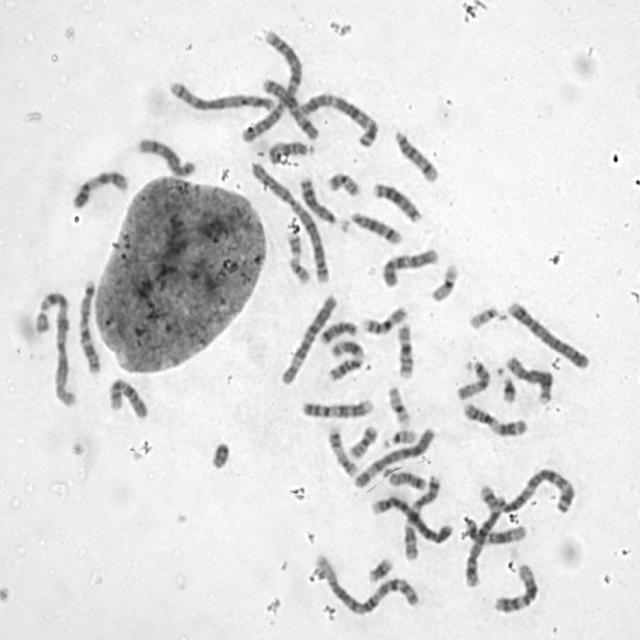A1: (314, 551, 422, 615), (33, 289, 78, 408)
A2: (250, 161, 332, 285), (239, 28, 304, 146)
A3: (297, 92, 379, 146), (496, 470, 578, 514)
B4: (506, 300, 591, 371), (372, 496, 455, 546)
B5: (462, 483, 501, 588), (169, 78, 275, 115)
C10: (380, 249, 440, 289), (109, 375, 150, 421)
C11: (461, 401, 528, 439), (326, 340, 367, 383)
C12: (493, 562, 540, 616), (464, 516, 527, 544)
C6: (350, 426, 436, 489), (280, 294, 337, 385)
C7: (402, 474, 442, 560), (77, 279, 103, 373)
C8: (504, 354, 556, 405), (136, 137, 197, 179)
C9: (72, 170, 130, 212), (301, 398, 376, 420)
D13: (373, 182, 423, 224), (299, 177, 338, 226)
D14: (394, 126, 440, 183), (342, 211, 403, 245)
D15: (454, 359, 491, 401), (269, 141, 314, 165)
E16: (360, 304, 408, 336), (397, 324, 415, 381)
E17: (327, 429, 358, 479), (286, 232, 312, 284)
E18: (383, 466, 429, 492), (317, 321, 359, 345)
F19: (429, 261, 461, 302), (388, 386, 410, 425)
F20: (348, 425, 379, 459), (329, 171, 361, 197)
G21: (497, 366, 517, 403), (367, 557, 393, 582)
G22: (382, 428, 421, 451), (469, 305, 498, 331)
X: (262, 76, 318, 139)
Y: (208, 438, 232, 470)
